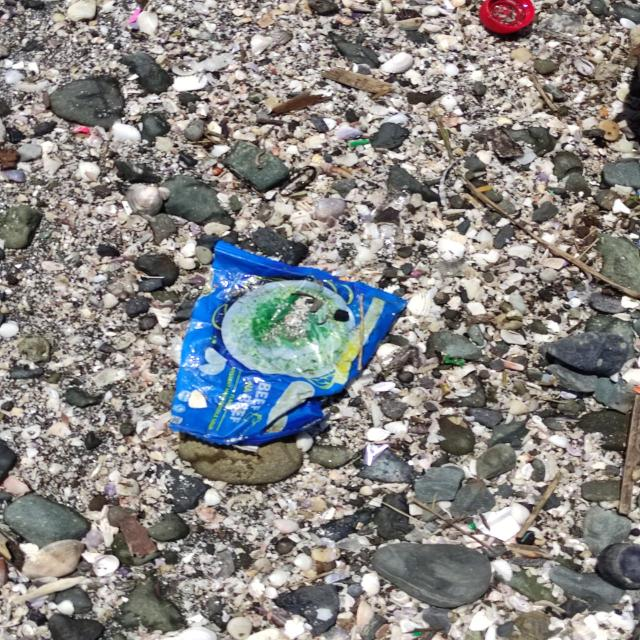plastic_waste: (164, 240, 410, 450), (477, 0, 535, 34)
